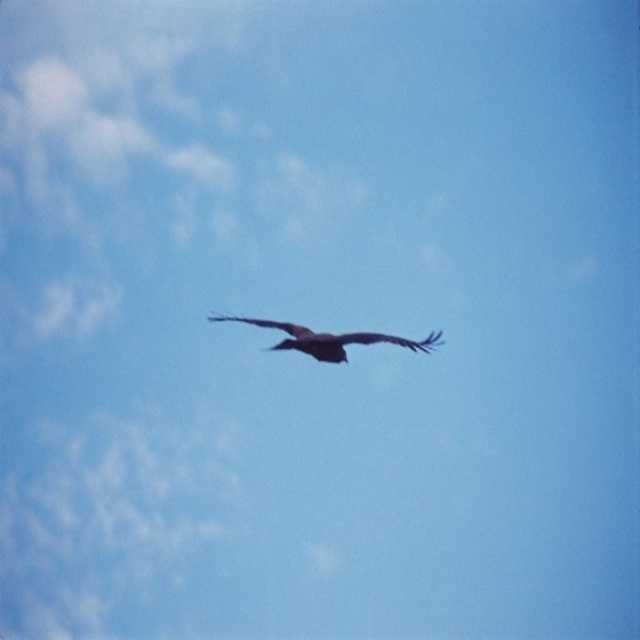Eagle: (212, 310, 451, 374)
